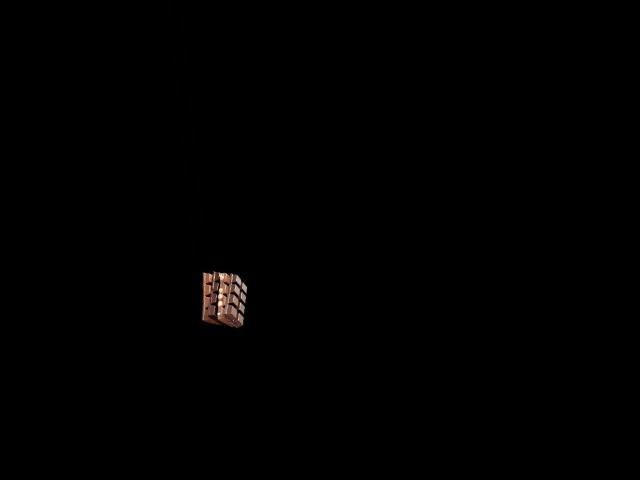chocolate: (195, 268, 250, 327)
